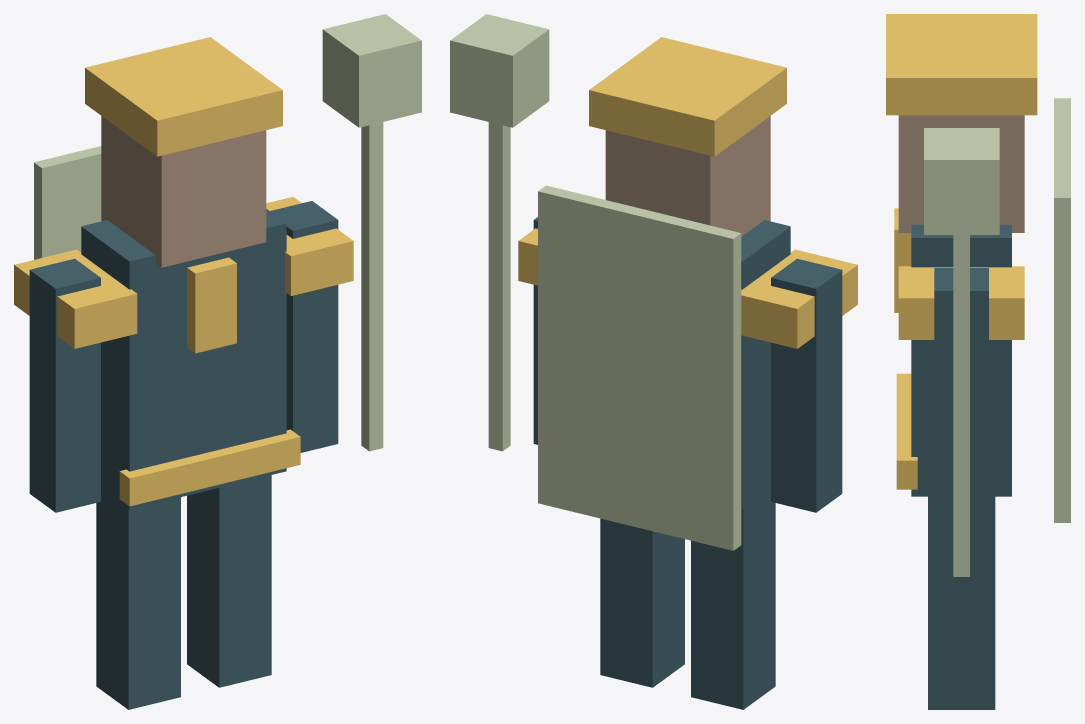
File: 11_varren_skyharrow_sentinel_near_verdant.glb
3 renders of one model, left to right at view 1: azimuth 30°, elevation 25°; view 2: azimuth 150°, elevation 25°; view 3: azimuth 270°, elevation 25°, orthographic. The views are drawn at different scales.
Parts seen in each view (by area): view 1: Varren Skyharrow, Sentinel near Verdant; view 2: Varren Skyharrow, Sentinel near Verdant; view 3: Varren Skyharrow, Sentinel near Verdant.
Part boxes in pixels (x1=…): Varren Skyharrow, Sentinel near Verdant: x1=14, y1=14, x2=421, y2=709; Varren Skyharrow, Sentinel near Verdant: x1=450, y1=14, x2=857, y2=709; Varren Skyharrow, Sentinel near Verdant: x1=886, y1=14, x2=1070, y2=709.
Size of the model in its own units: 1.07 by 1.7 by 0.4537.
